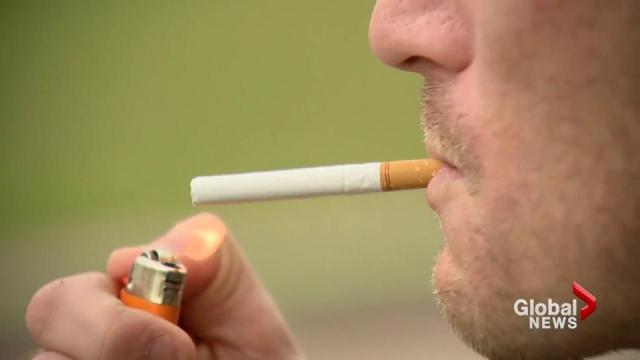Cigarette: (190, 157, 460, 207)
